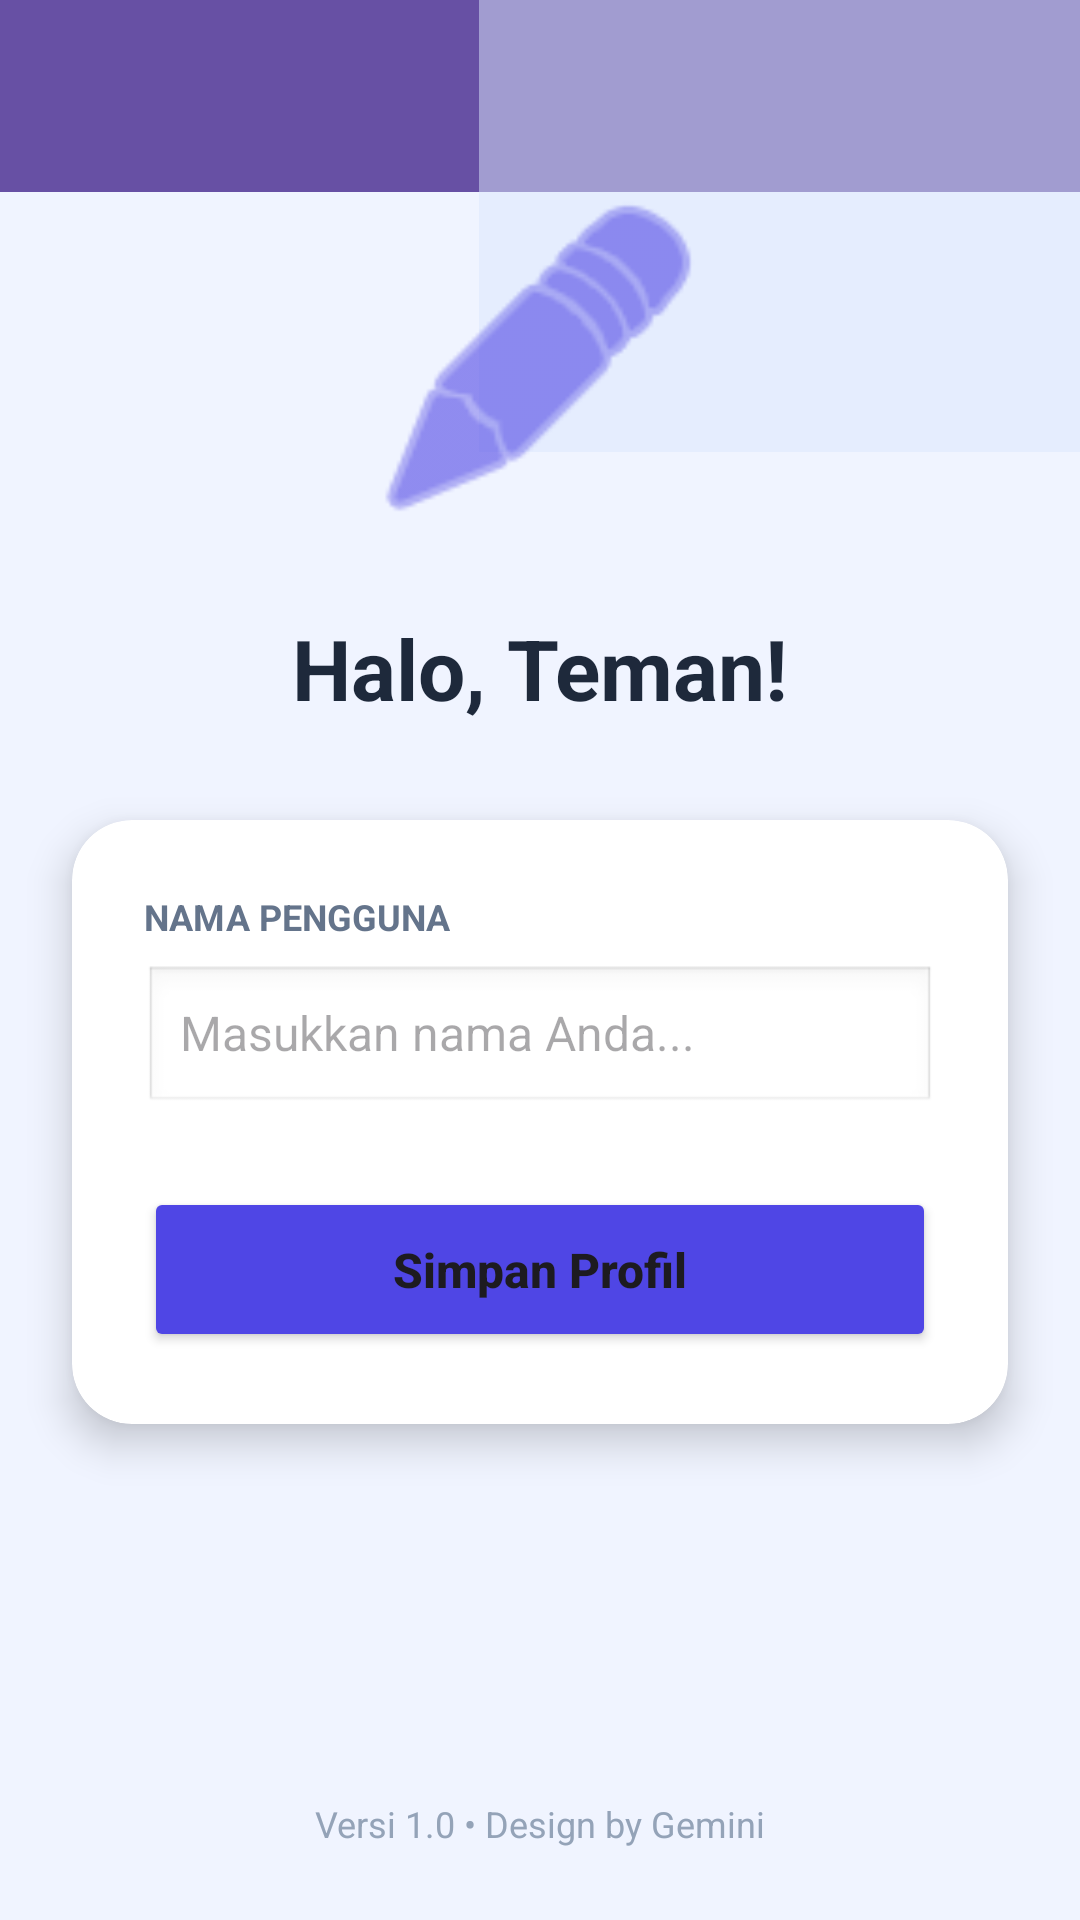

Named icons in this screenshot (1080 × 1920) and their bounding boxes, (x1, y1, x2, y2):
Icon Edit: (386, 205, 691, 510)
